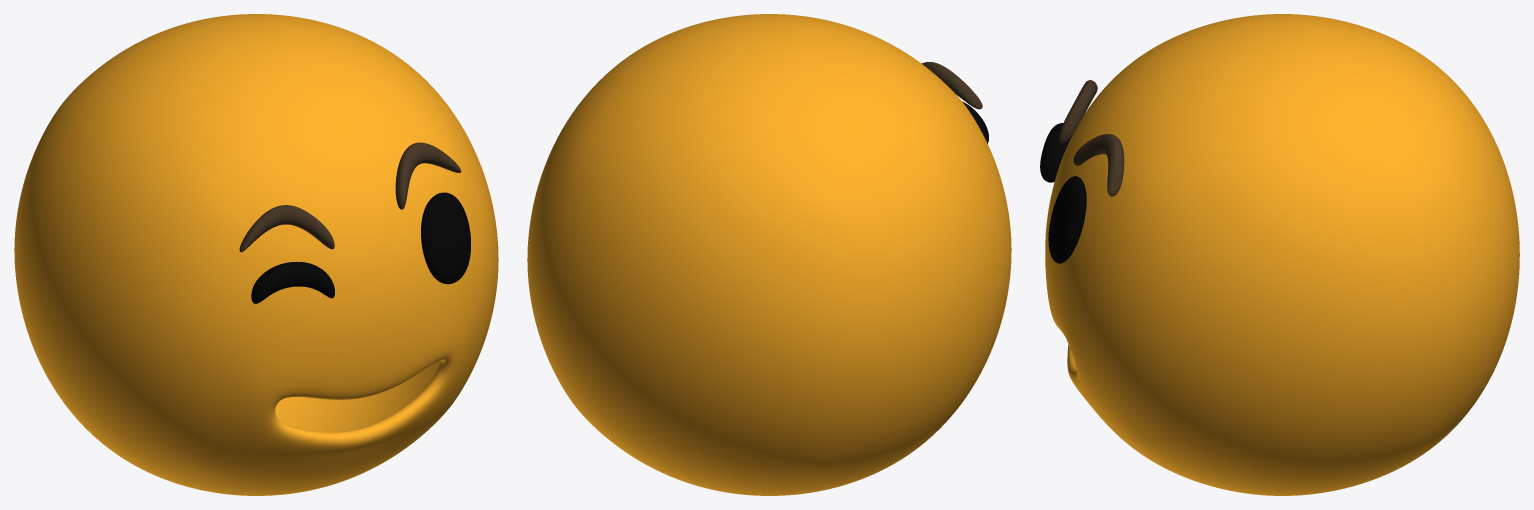
Rendered from Winking Face.glb.
3 views of the same model, side by side, from view 1: azimuth 30°, elevation 25°; view 2: azimuth 150°, elevation 25°; view 3: azimuth 270°, elevation 25° (orthographic).
Parts seen in each view (by area): view 1: Cube, Cube.001, Cube.005_Cube.008, Cube.004_Cube.005, Cube.003_Cube.004; view 2: Cube, Cube.004_Cube.005; view 3: Cube, Cube.001, Cube.003_Cube.004, Cube.005_Cube.008, Cube.004_Cube.005.
Boxes of the visible parts, x1,y1,x2,y2 form: Cube: (14, 14, 498, 495); Cube.001: (421, 192, 470, 284); Cube.005_Cube.008: (251, 261, 334, 303); Cube.004_Cube.005: (239, 205, 334, 252); Cube.003_Cube.004: (395, 142, 461, 209); Cube: (527, 14, 1011, 495); Cube.004_Cube.005: (921, 62, 982, 109); Cube: (1045, 14, 1519, 495); Cube.001: (1048, 176, 1086, 263); Cube.003_Cube.004: (1073, 134, 1124, 196); Cube.005_Cube.008: (1040, 123, 1071, 182); Cube.004_Cube.005: (1059, 80, 1097, 143).
Size of the model in its own units: 1.66 by 1.66 by 1.68.
